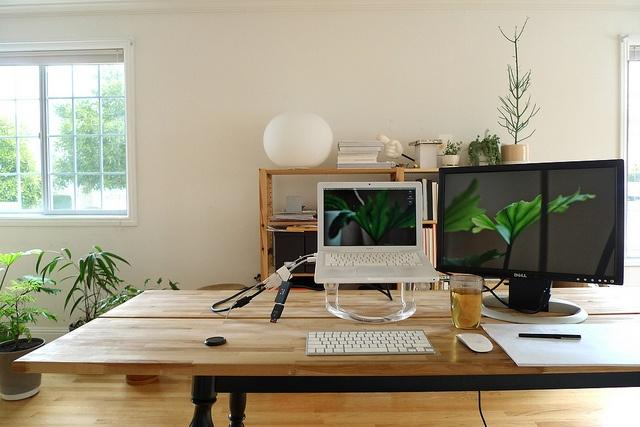AIO PC-Monitor-TV: (437, 158, 625, 323)
Meja: (10, 286, 639, 424)
